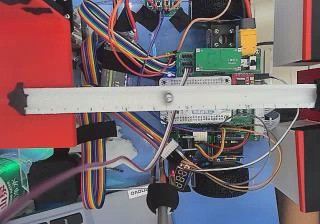ironball: (163, 93, 173, 103)
